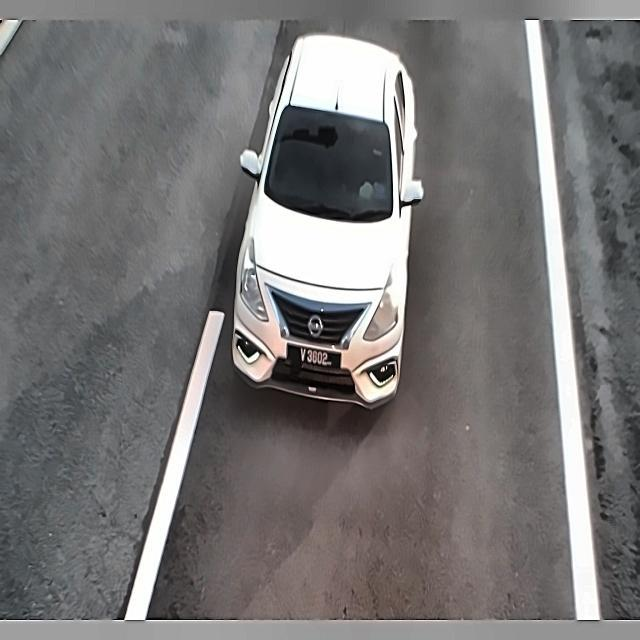car: (288, 339, 338, 379)
